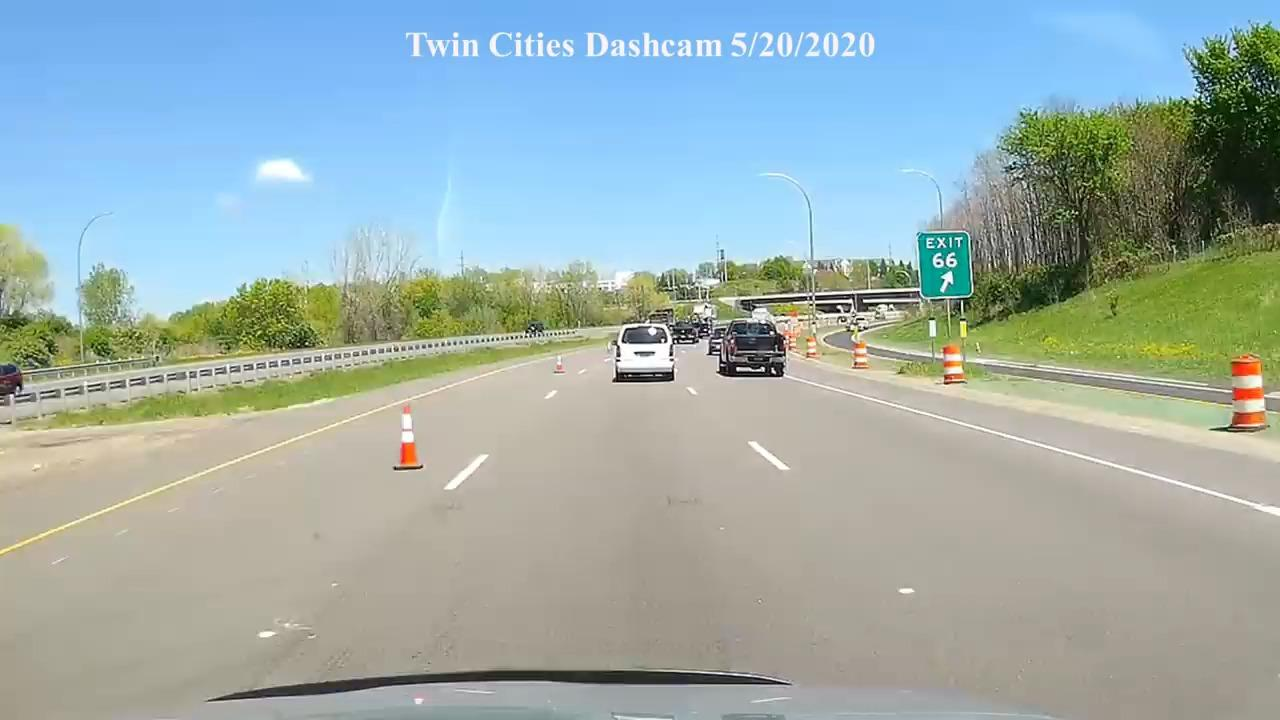car: (718, 319, 787, 378), (610, 323, 676, 382), (0, 362, 23, 400)
traffic cone: (1209, 353, 1271, 434), (392, 401, 424, 471), (942, 345, 966, 386), (851, 337, 869, 370), (800, 331, 820, 359), (804, 337, 819, 359)
